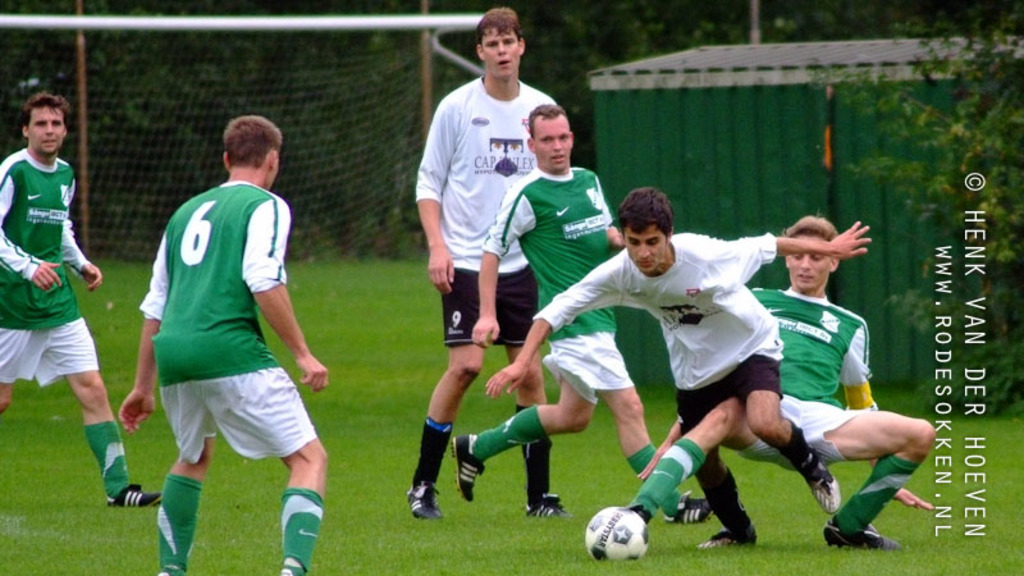Person: (0, 6, 934, 576)
